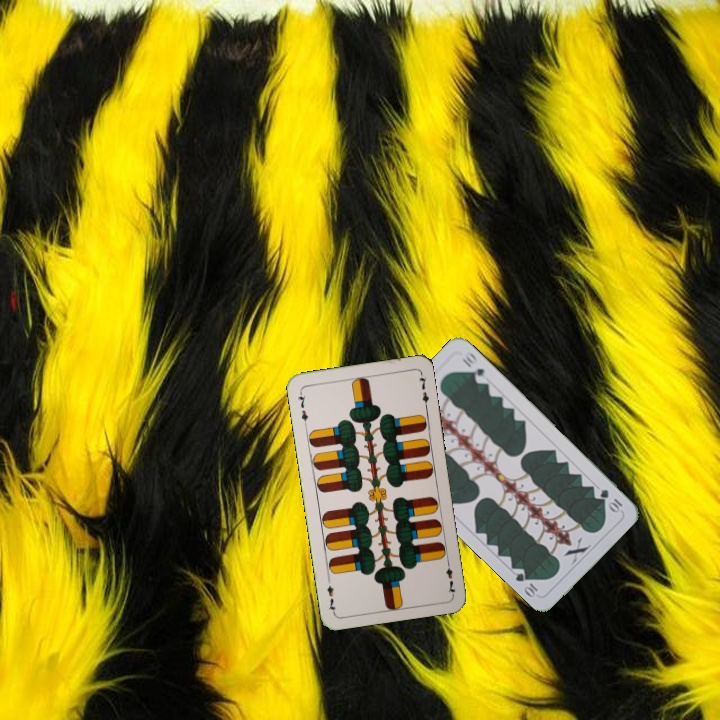E7: (294, 387, 311, 428), (442, 556, 458, 597)
G10: (596, 485, 625, 515)
